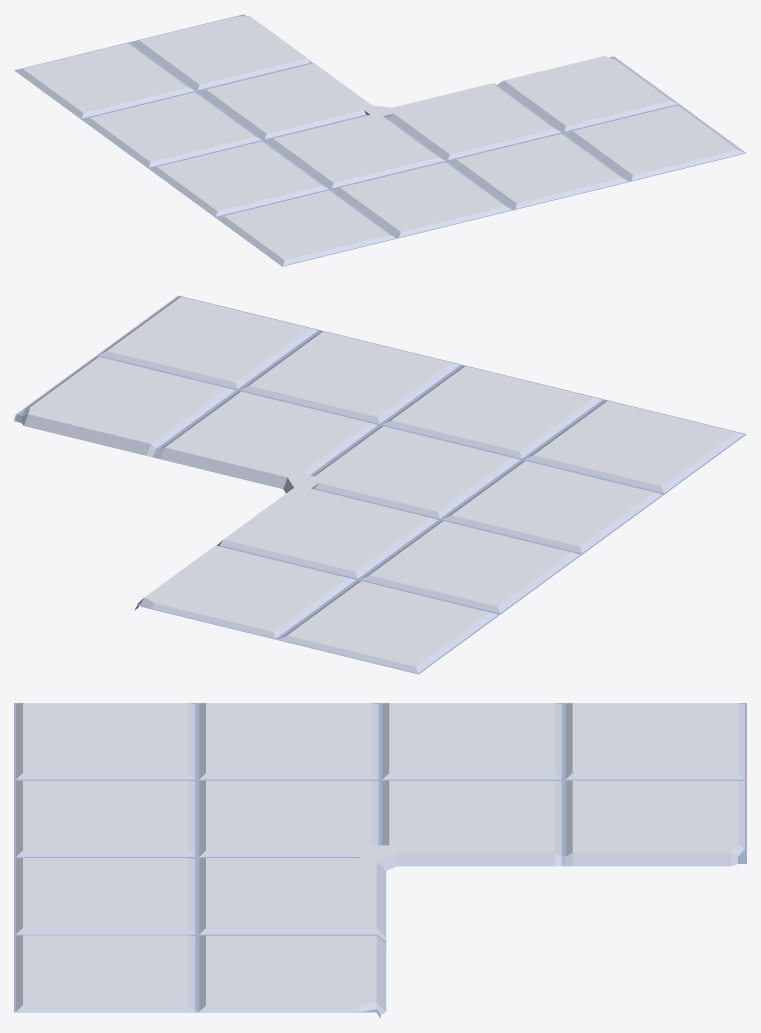
File: Tile_Floor_Corner_Out_Cap.fbx
The picture shows the model from 3 angles, top to bottom: view 1: azimuth 30°, elevation 25°; view 2: azimuth 150°, elevation 25°; view 3: azimuth 270°, elevation 25°; orthographic projection. The views are drawn at different scales.
Visible parts, largest first — view 1: Tile_Floor_CornerInCap:Tile_Floor_Corner_In_TopCap; view 2: Tile_Floor_CornerInCap:Tile_Floor_Corner_In_TopCap; view 3: Tile_Floor_CornerInCap:Tile_Floor_Corner_In_TopCap.
Part boxes in pixels (box(x1,y1,x2,y2)): Tile_Floor_CornerInCap:Tile_Floor_Corner_In_TopCap: box(14, 14, 746, 266); Tile_Floor_CornerInCap:Tile_Floor_Corner_In_TopCap: box(14, 295, 746, 674); Tile_Floor_CornerInCap:Tile_Floor_Corner_In_TopCap: box(14, 703, 746, 1018).
Size of the model in its own units: 400 by 5.9 by 400.
1 material, 1 textured.
